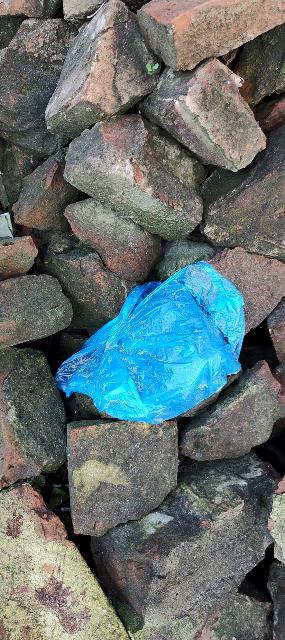polythene: (54, 248, 266, 444)
